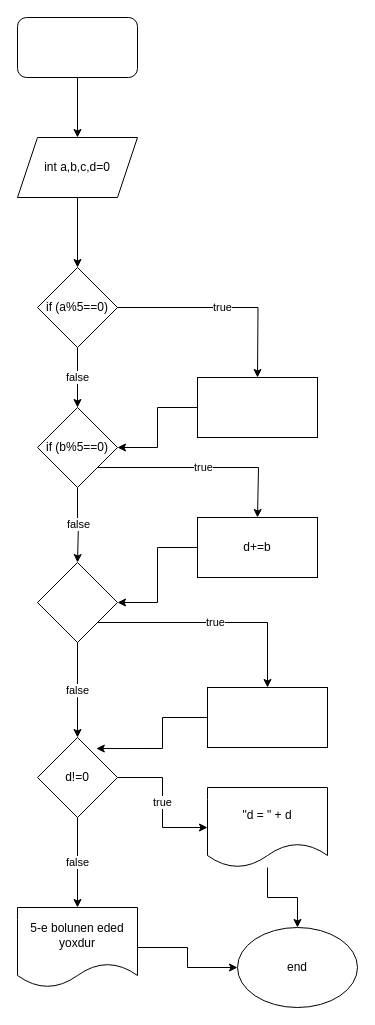
The diagram is 375 pixels wide and 1025 high, and some of its shapes have lost their labels. Here are the shapes that lost their labels. From the top down, the centre of each, then its label:
At (x=77, y=47): "Start".
At (x=257, y=407): "d+=a".
At (x=77, y=602): "if (c%5==0)".
At (x=267, y=717): "d+=c".
